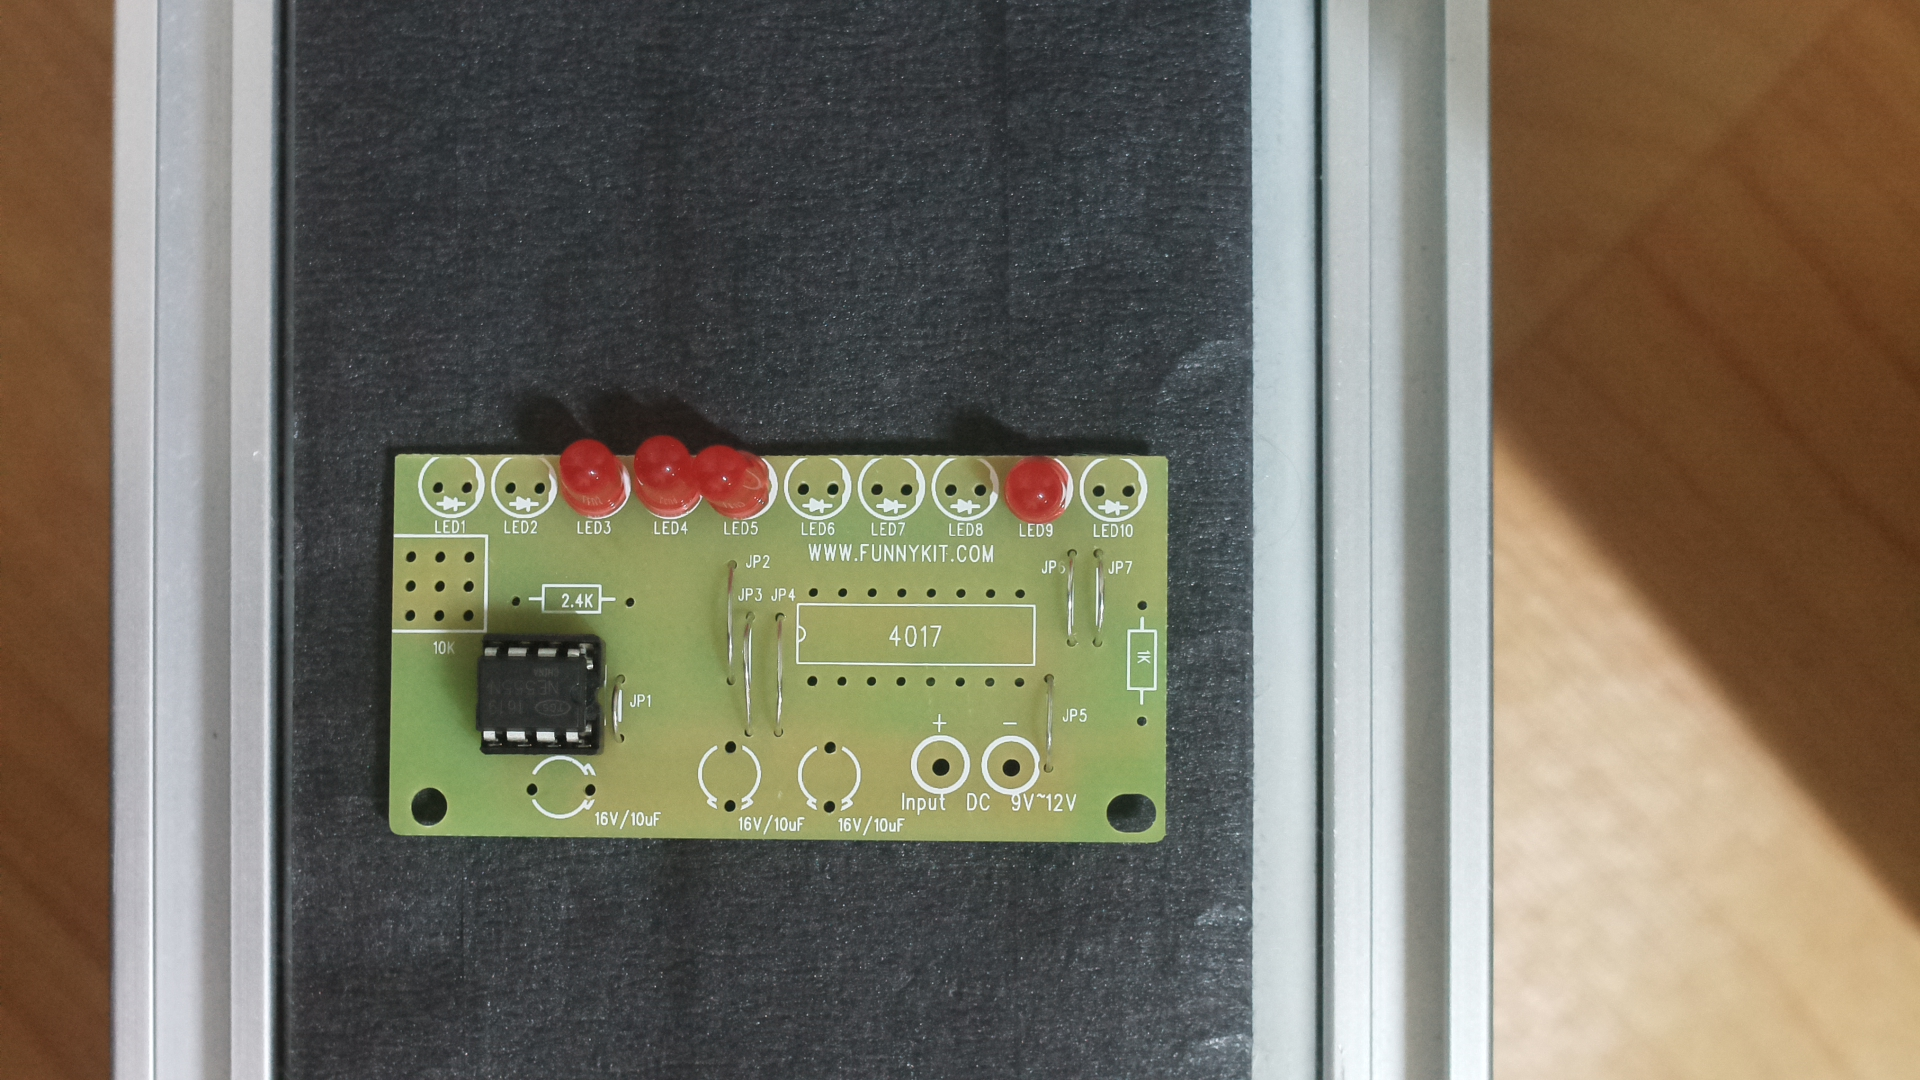B_Missing_part: (377, 425, 1183, 864)
